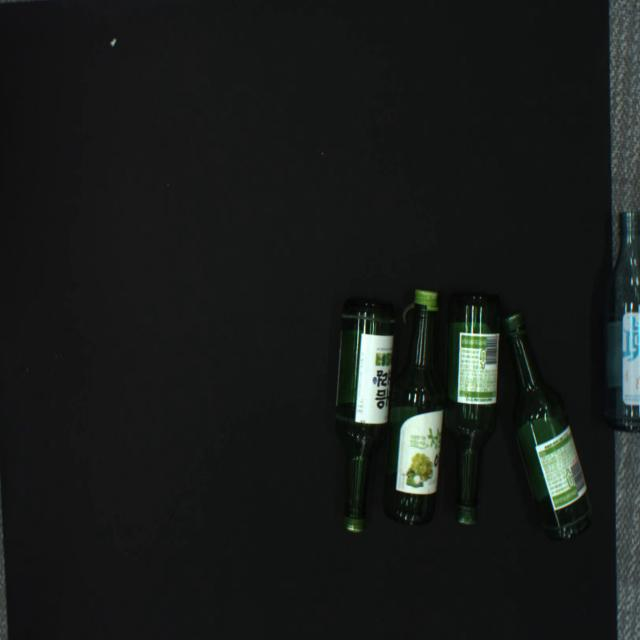soju-bottle: (501, 312, 593, 540), (333, 299, 396, 533), (383, 289, 445, 526), (444, 293, 502, 525), (603, 211, 640, 432)
